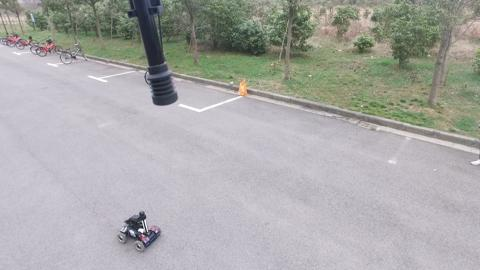chariot: (108, 205, 161, 260)
